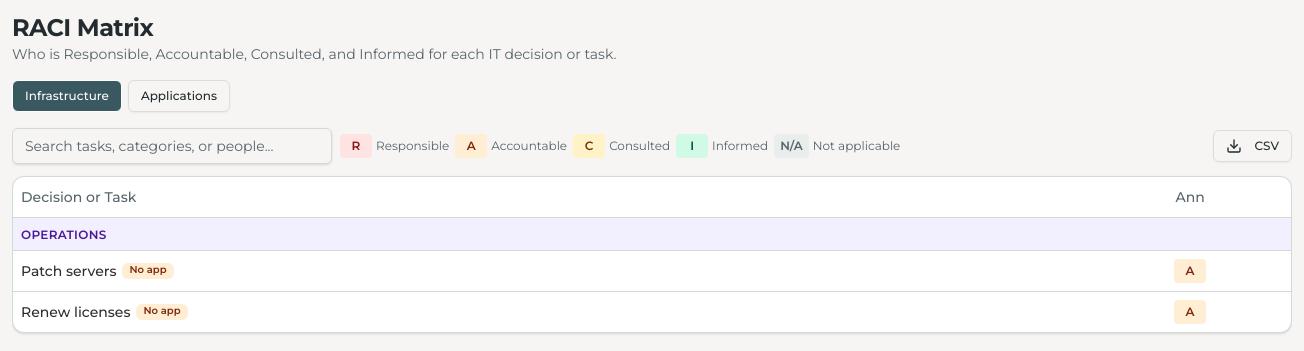
RACI stored filters › stores the search when typed and clears the key when emptied
Type "renew" into the field with placeholder "Search tasks, categories, or people..." at (172, 146), box [12,128,332,164]
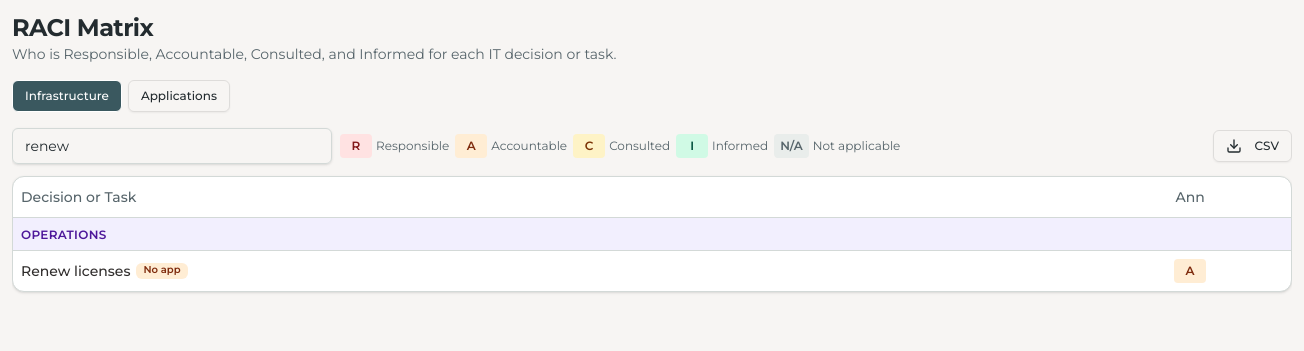
expect the text "Renew licenses" is shown: met, box [21,260,130,280]
expect the text "Patch servers" is gone: met
Clear the field with placeholder "Search tasks, categories, or people..." at (172, 146), box [12,128,332,164]
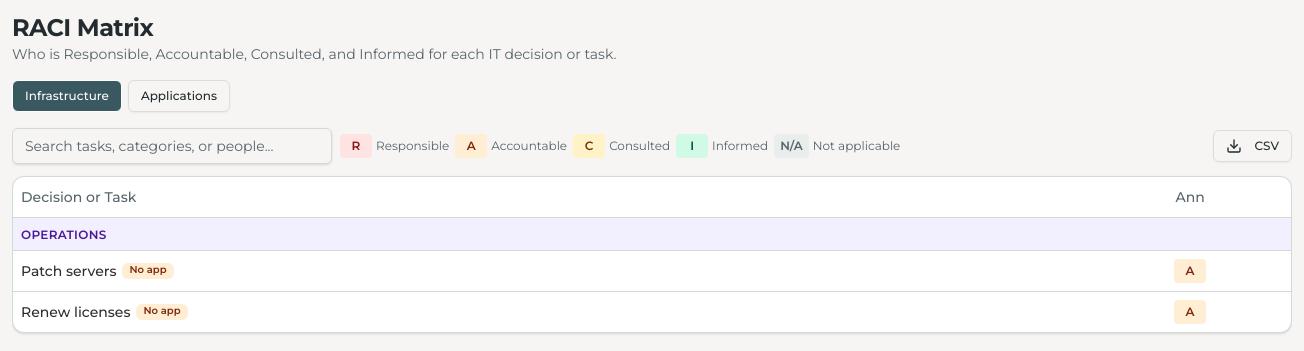
expect the text "Patch servers" is shown: met, box [21,260,116,280]
